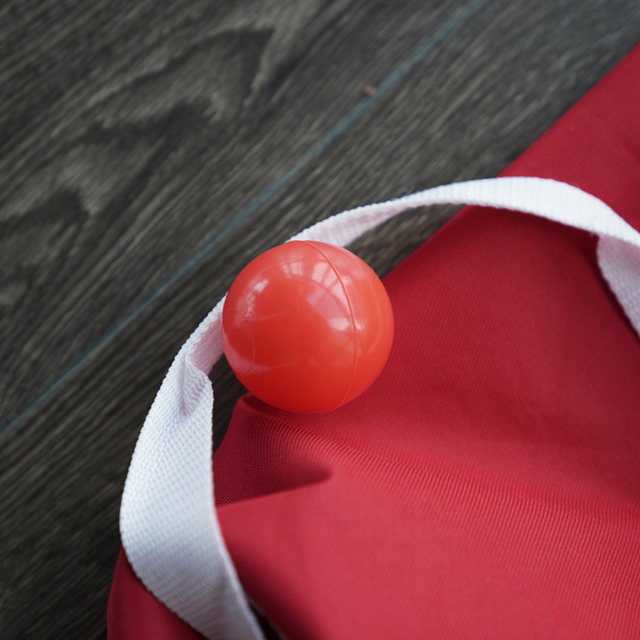Ball: (224, 240, 396, 412)
